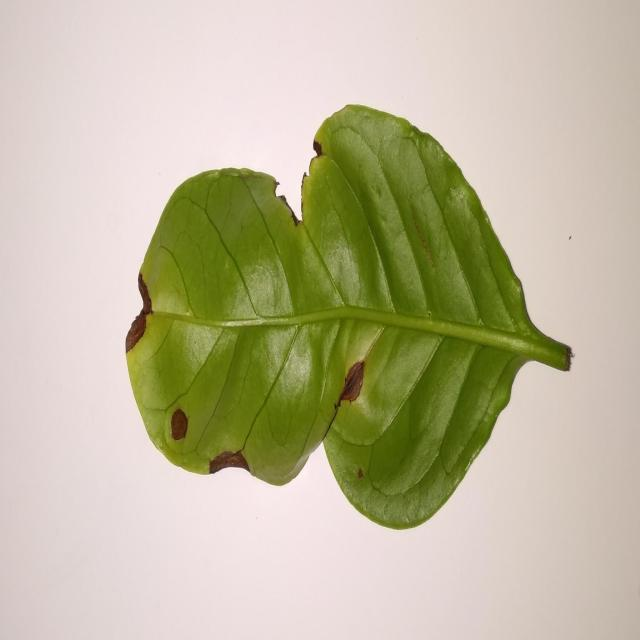Enfermedad-Antracnosis: (124, 105, 573, 533)
